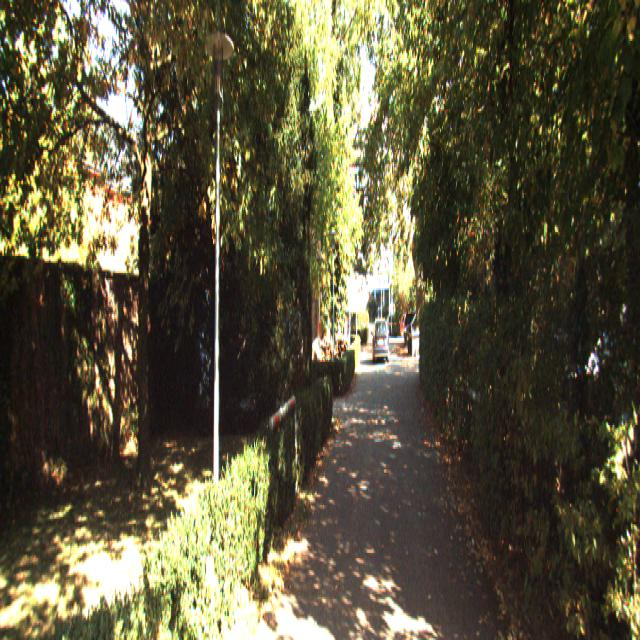Car: (373, 318, 390, 366)
